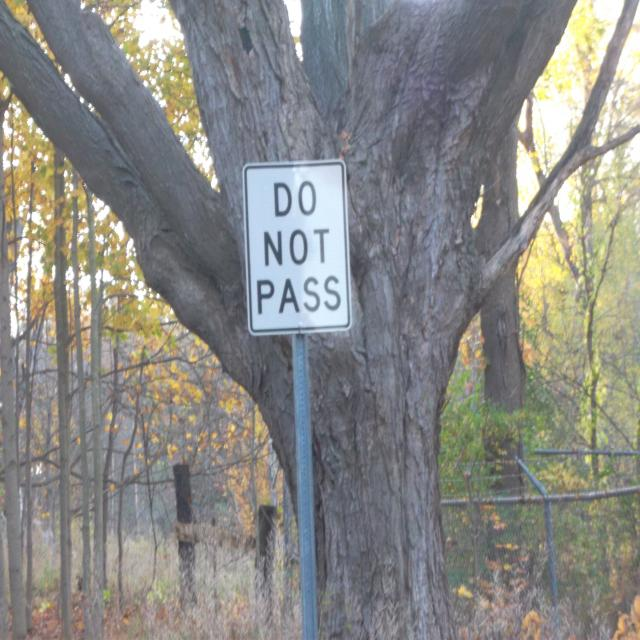regulatory: (242, 155, 357, 340)
